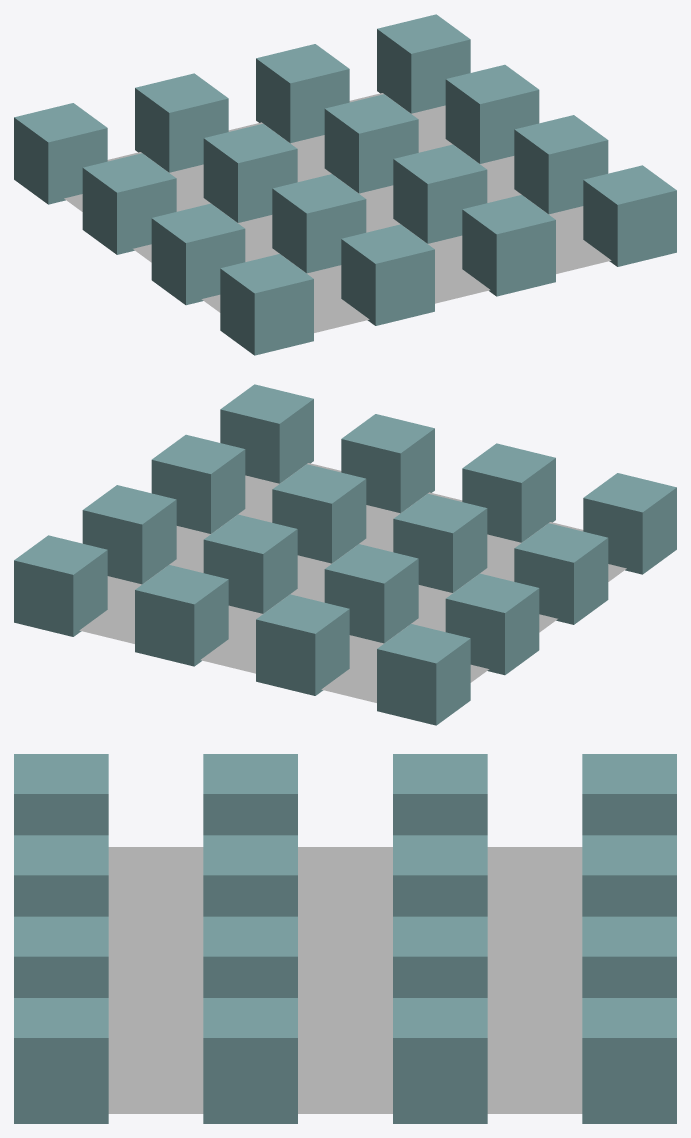
The picture shows the model from 3 angles, top to bottom: view 1: azimuth 30°, elevation 25°; view 2: azimuth 150°, elevation 25°; view 3: azimuth 270°, elevation 25°; orthographic projection. The views are drawn at different scales.
Visible parts, largest first — view 1: Plane, Cube.016, Cube.013, Cube.006, Cube.011, Cube.014, Cube.015, Cube.012, Cube.009, Cube.003, Cube.004, Cube.010 (+5 smaller); view 2: Plane, Cube.012, Cube.001, Cube.002, Cube.007, Cube.015, Cube.014, Cube.016, Cube.005, Cube.004, Cube.003, Cube.008 (+5 smaller); view 3: Plane, Cube.001, Cube.005, Cube.009, Cube.013, Cube.002, Cube.003, Cube.004, Cube.006, Cube.007, Cube.008, Cube.010 (+5 smaller).
Boxes of the visible parts, bbox=[...] form: Plane: bbox=[64, 93, 611, 332]; Cube.016: bbox=[220, 254, 313, 355]; Cube.013: bbox=[583, 165, 676, 266]; Cube.006: bbox=[462, 195, 555, 296]; Cube.011: bbox=[341, 224, 434, 325]; Cube.014: bbox=[82, 153, 176, 254]; Cube.015: bbox=[151, 203, 245, 305]; Cube.012: bbox=[14, 103, 107, 204]; Cube.009: bbox=[514, 115, 608, 214]; Cube.003: bbox=[324, 94, 418, 193]; Cube.004: bbox=[393, 144, 487, 243]; Cube.010: bbox=[272, 174, 366, 273]; Plane: bbox=[79, 463, 626, 702]; Cube.012: bbox=[377, 624, 470, 725]; Cube.001: bbox=[14, 535, 107, 636]; Cube.002: bbox=[135, 565, 228, 666]; Cube.007: bbox=[256, 594, 349, 695]; Cube.015: bbox=[514, 523, 608, 624]; Cube.014: bbox=[445, 573, 539, 675]; Cube.016: bbox=[583, 473, 676, 574]; Cube.005: bbox=[82, 485, 176, 584]; Cube.004: bbox=[272, 464, 366, 563]; Cube.003: bbox=[203, 514, 297, 613]; Cube.008: bbox=[324, 544, 418, 643]; Plane: bbox=[108, 847, 582, 1113]; Cube.001: bbox=[582, 998, 676, 1123]; Cube.005: bbox=[393, 998, 487, 1123]; Cube.009: bbox=[203, 998, 297, 1123]; Cube.013: bbox=[14, 998, 108, 1123]; Cube.002: bbox=[582, 916, 676, 997]; Cube.003: bbox=[393, 916, 487, 997]; Cube.004: bbox=[203, 916, 297, 997]; Cube.006: bbox=[14, 916, 108, 997]; Cube.007: bbox=[582, 835, 676, 916]; Cube.008: bbox=[393, 835, 487, 916]; Cube.010: bbox=[203, 835, 297, 916].
Size of the model in its own units: 21.28 by 3 by 21.
